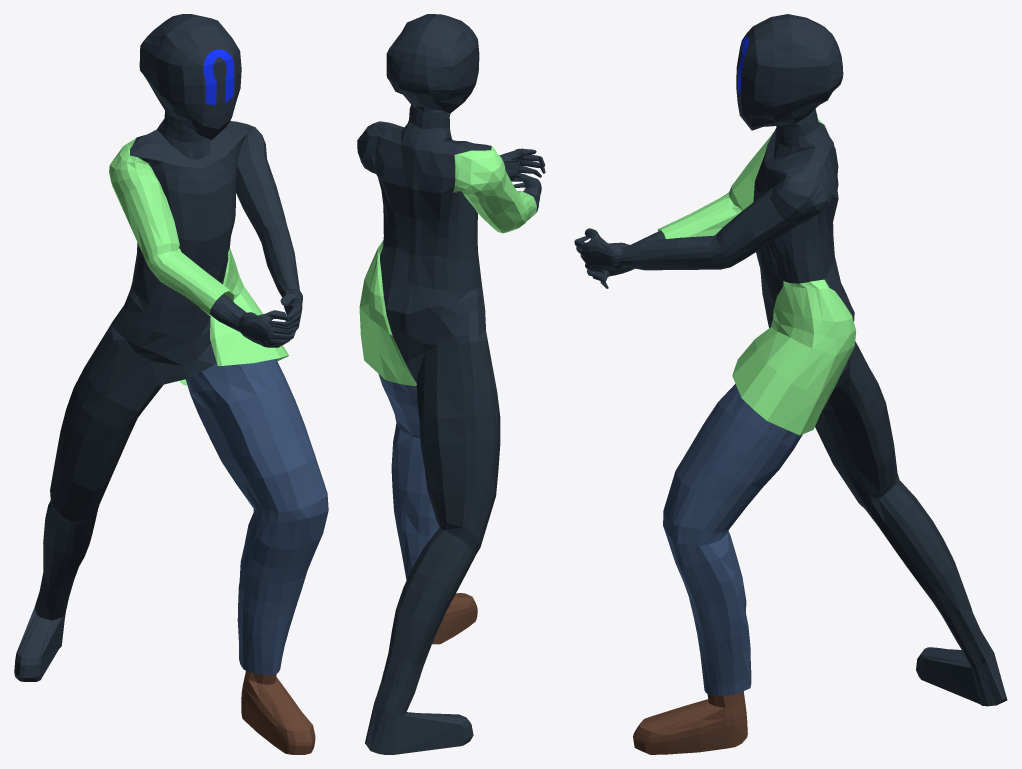
File: Mar_WF_000002.obj
The picture shows the model from 3 angles, left to right: view 1: azimuth 30°, elevation 25°; view 2: azimuth 150°, elevation 25°; view 3: azimuth 270°, elevation 25°; orthographic projection. The views are drawn at different scales.
Visible parts, largest first — view 1: Cube.000_Cube.001; view 2: Cube.000_Cube.001; view 3: Cube.000_Cube.001.
Boxes of the visible parts, x1,y1,x2,y2 form: Cube.000_Cube.001: (14, 14, 328, 754); Cube.000_Cube.001: (357, 14, 545, 754); Cube.000_Cube.001: (574, 14, 1007, 754).
Bounding box in the file's own units: 1.09 × 3.74 × 2.06.
